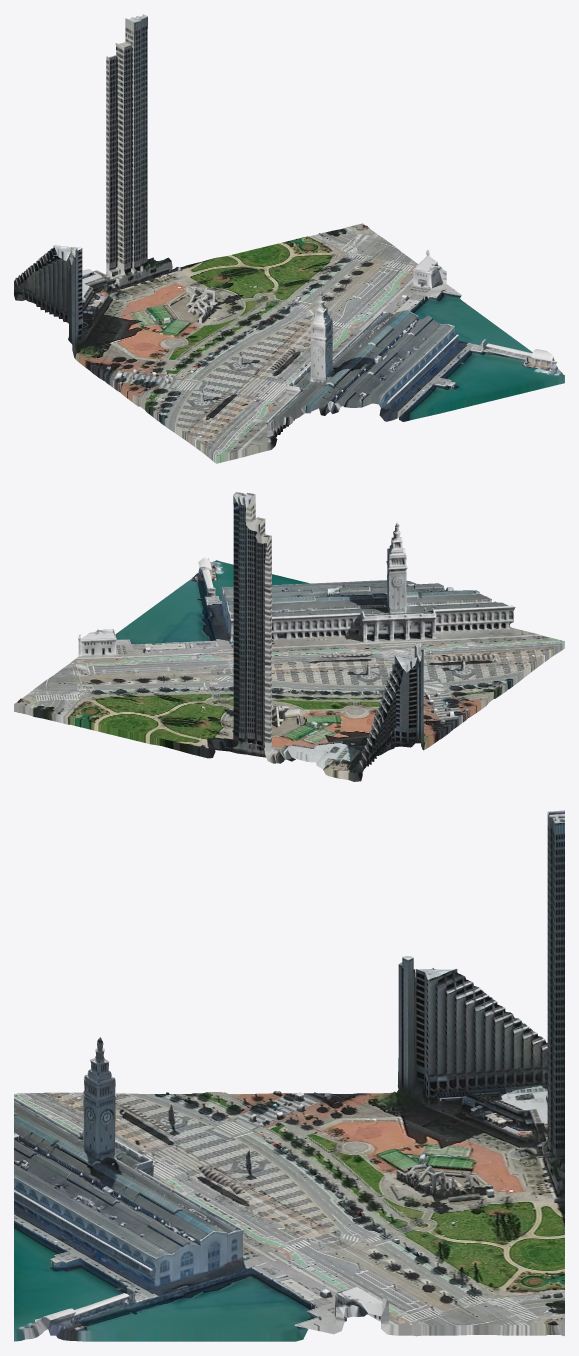
File: z17-20973-50652-h0-yup-uvflip-v3-world.glb
3 views of the same model, one above another, from view 1: azimuth 30°, elevation 25°; view 2: azimuth 150°, elevation 25°; view 3: azimuth 270°, elevation 25° (orthographic). The views are drawn at different scales.
Bounding box in the file's own units: 241 × 181 × 243.
1 material, 1 textured.
